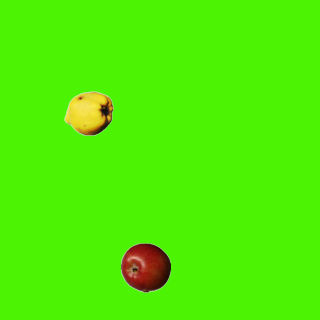Apple Braeburn: (120, 242, 170, 292)
Quince: (63, 88, 113, 138)
